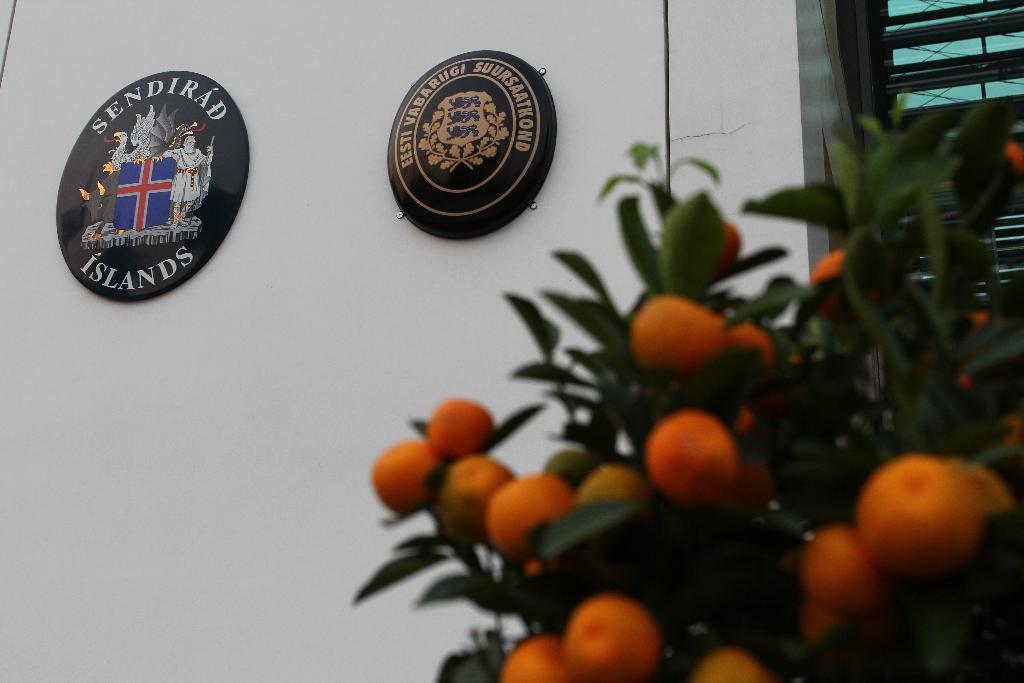Ripe: (851, 454, 984, 579), (648, 411, 733, 504), (631, 291, 723, 374), (570, 598, 657, 682), (488, 477, 571, 556), (808, 525, 871, 611), (369, 441, 433, 516), (429, 401, 497, 461), (442, 459, 510, 504), (504, 636, 570, 682)
